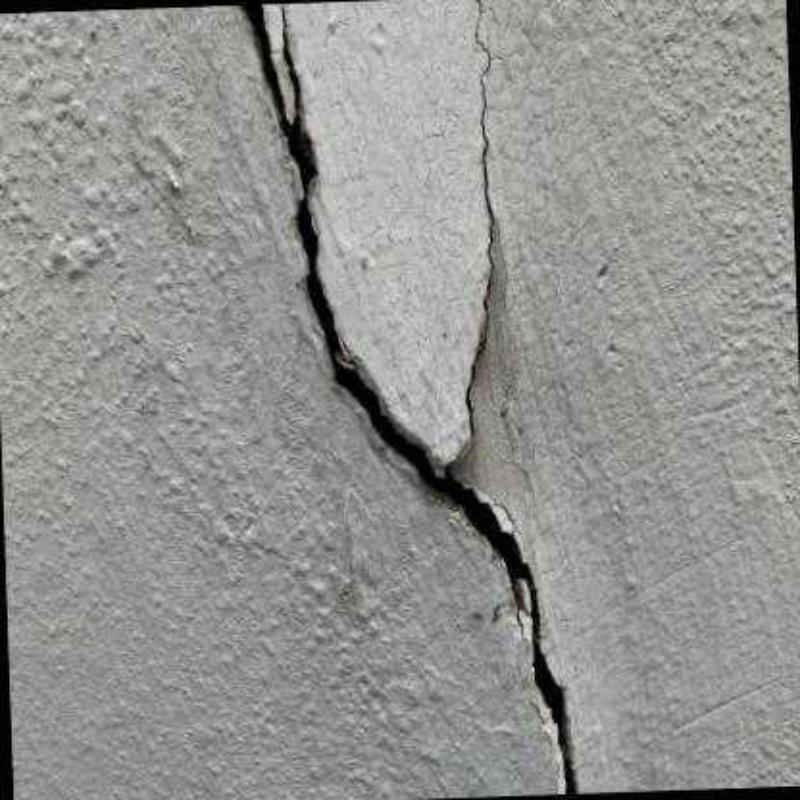pothole: (241, 5, 577, 794), (465, 0, 496, 437), (279, 4, 300, 108), (512, 583, 533, 637)
